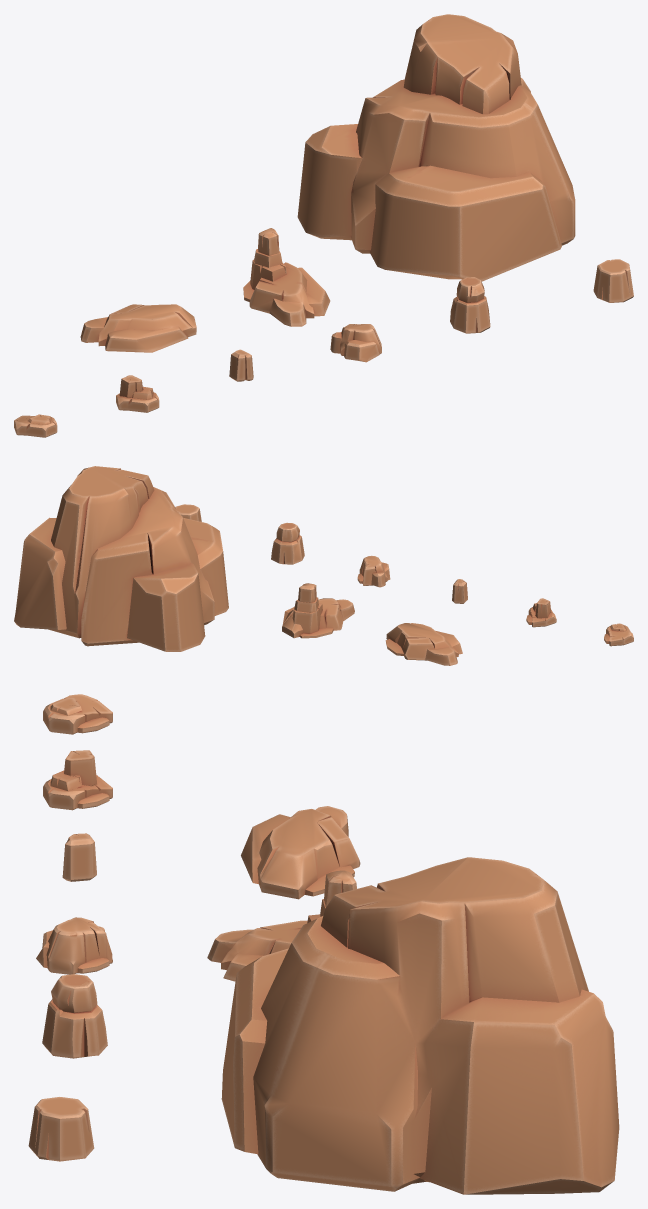
The model's file is Roca2.fbx.
The picture shows the model from 3 angles, top to bottom: view 1: azimuth 30°, elevation 25°; view 2: azimuth 150°, elevation 25°; view 3: azimuth 270°, elevation 25°; orthographic projection. The views are drawn at different scales.
Parts seen in each view (by area): view 1: Rock_2, Rock_8, Rock_4, Rock_14, Rock_12, Rock_15, Rock_10, Rock_9, Rock_11; view 2: Rock_2, Rock_8, Rock_4, Rock_14, Rock_12, Rock_10, Rock_9, Rock_11, Rock_15; view 3: Rock_2, Rock_4, Rock_14, Rock_8, Rock_15, Rock_12, Rock_10, Rock_9, Rock_11.
Part boxes in pixels (bbox=[...]): Rock_2: bbox=[297, 14, 575, 281]; Rock_8: bbox=[243, 228, 330, 326]; Rock_4: bbox=[80, 304, 196, 352]; Rock_14: bbox=[450, 277, 490, 333]; Rock_12: bbox=[330, 324, 381, 362]; Rock_15: bbox=[593, 259, 633, 302]; Rock_10: bbox=[116, 375, 159, 412]; Rock_9: bbox=[14, 414, 57, 437]; Rock_11: bbox=[229, 349, 253, 381]; Rock_2: bbox=[14, 466, 228, 651]; Rock_8: bbox=[282, 583, 354, 638]; Rock_4: bbox=[385, 623, 462, 665]; Rock_14: bbox=[271, 522, 304, 564]; Rock_12: bbox=[357, 555, 390, 587]; Rock_10: bbox=[526, 598, 556, 627]; Rock_9: bbox=[604, 623, 633, 646]; Rock_11: bbox=[452, 579, 467, 603]; Rock_15: bbox=[175, 504, 201, 521]; Rock_2: bbox=[221, 857, 619, 1194]; Rock_4: bbox=[241, 806, 360, 899]; Rock_14: bbox=[42, 974, 107, 1058]; Rock_8: bbox=[207, 870, 356, 981]; Rock_15: bbox=[28, 1097, 94, 1161]; Rock_12: bbox=[36, 917, 112, 974]; Rock_10: bbox=[43, 750, 112, 810]; Rock_9: bbox=[43, 694, 112, 734]; Rock_11: bbox=[62, 833, 96, 881].
Size of the model in its own units: 291 by 76.21 by 151.
